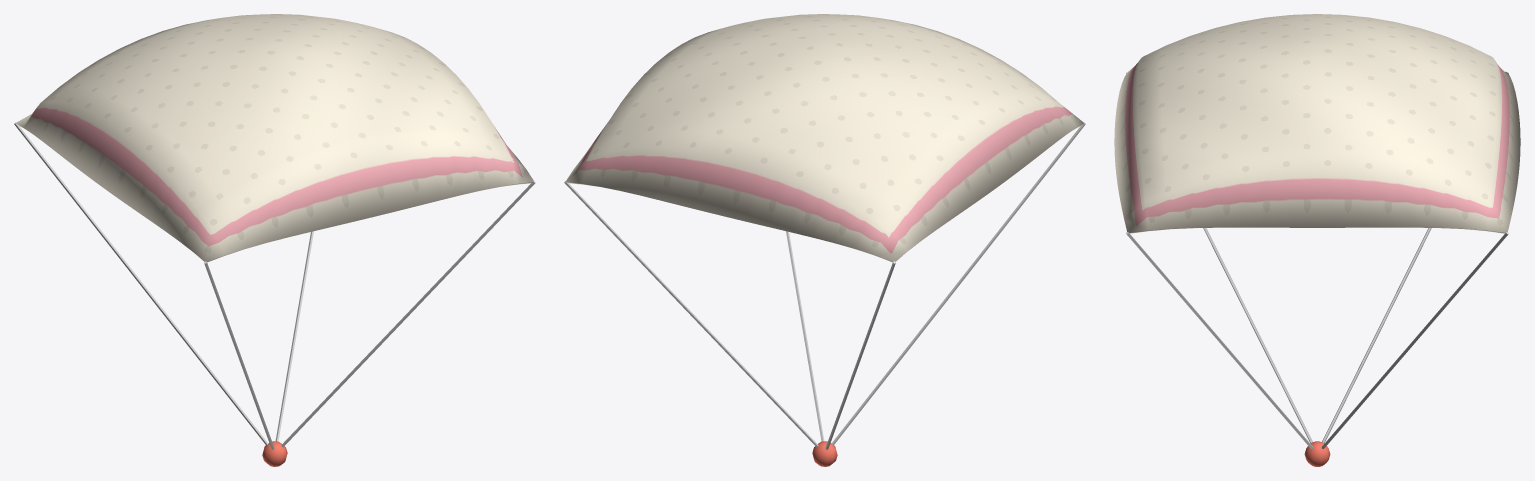
The model's file is tissue_chute.glb.
3 renders of one model, left to right at view 1: azimuth 30°, elevation 25°; view 2: azimuth 150°, elevation 25°; view 3: azimuth 270°, elevation 25°, orthographic.
Parts seen in each view (by area): view 1: TissueChute; view 2: TissueChute; view 3: TissueChute.
Part boxes in pixels (x1=…): TissueChute: x1=14, y1=14, x2=535, y2=466; TissueChute: x1=564, y1=14, x2=1085, y2=466; TissueChute: x1=1114, y1=14, x2=1520, y2=466.
Size of the model in its own units: 0.376 by 0.43 by 0.376.
3 materials, 3 textured.
